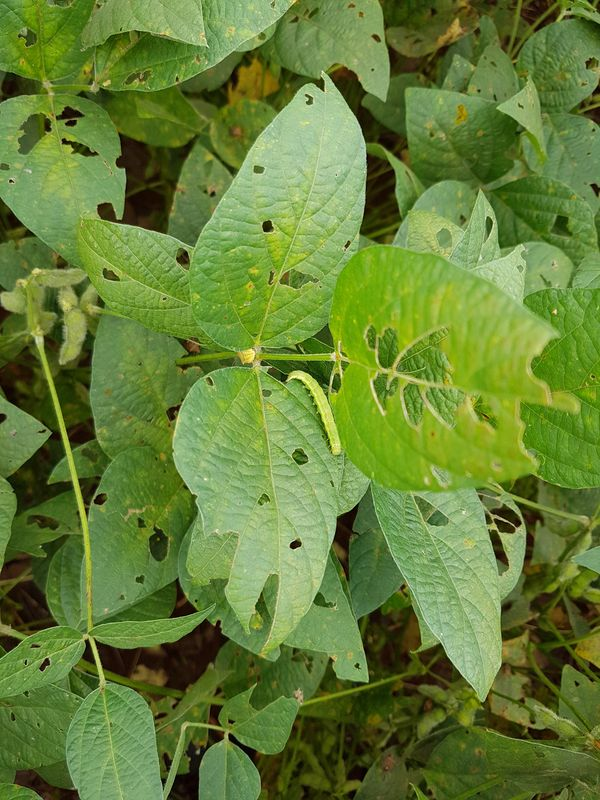Anticarsia_gemmatalis: (278, 364, 351, 467)
Euschistus_heros_ninfa: (228, 341, 262, 373)
